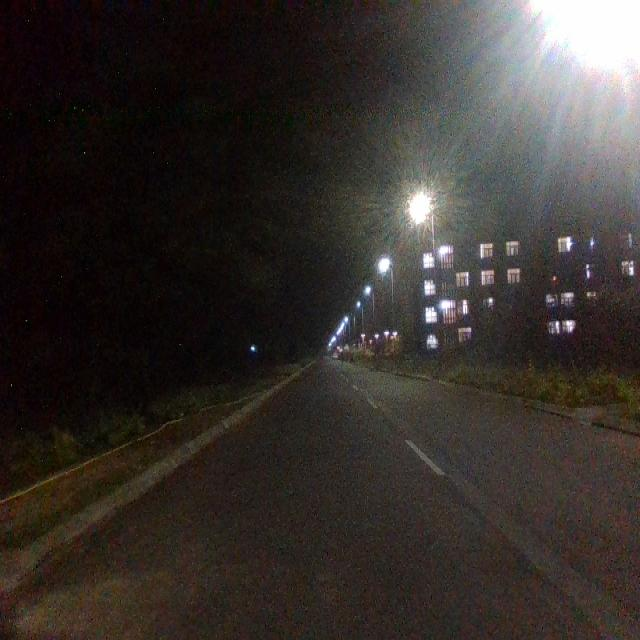lane: (0, 364, 608, 640)
